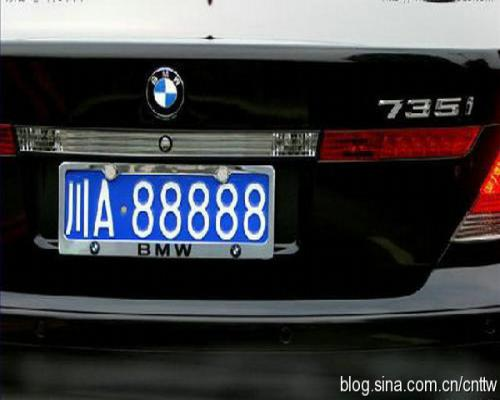Carplate: (55, 157, 274, 265)
